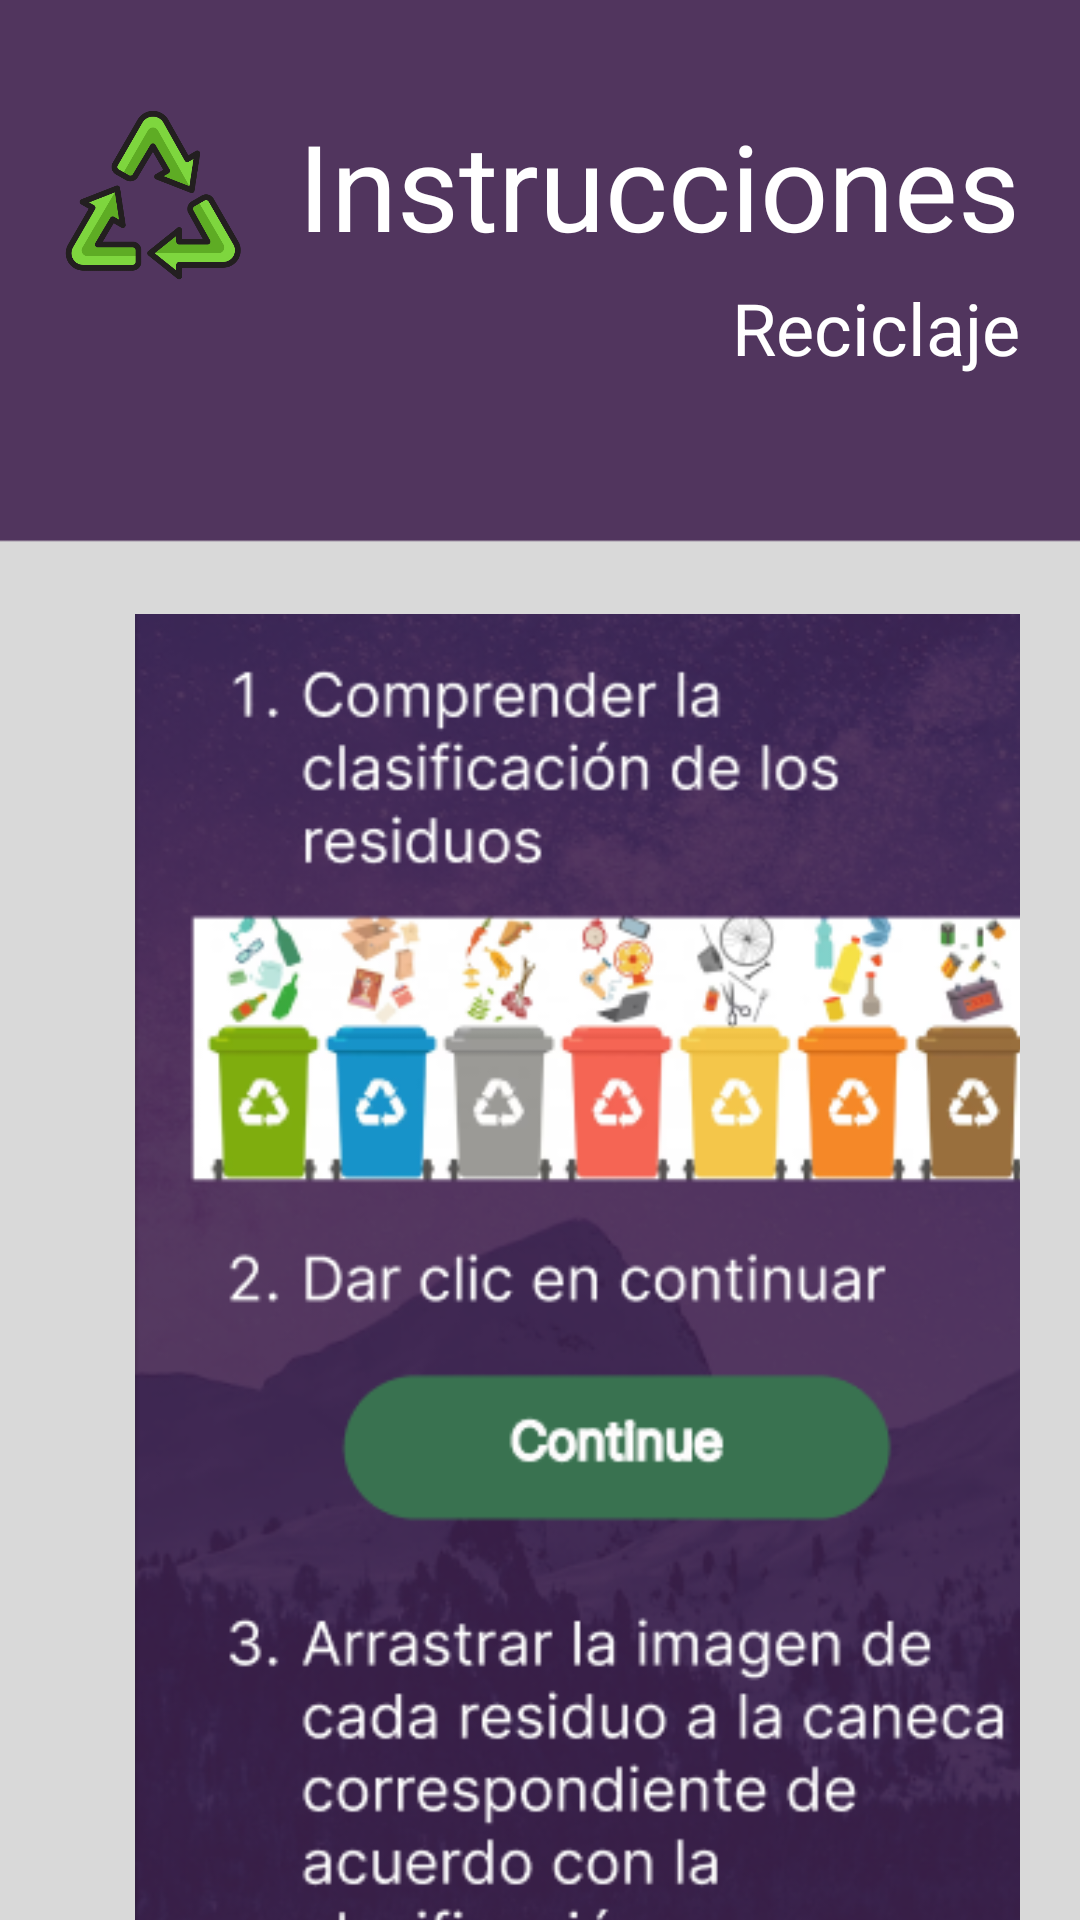

Icon bounding boxes for this 1080*1920 phone screenshot, format BBox(x1, y1, x2, y2):
recycle: BBox(66, 111, 241, 279)
